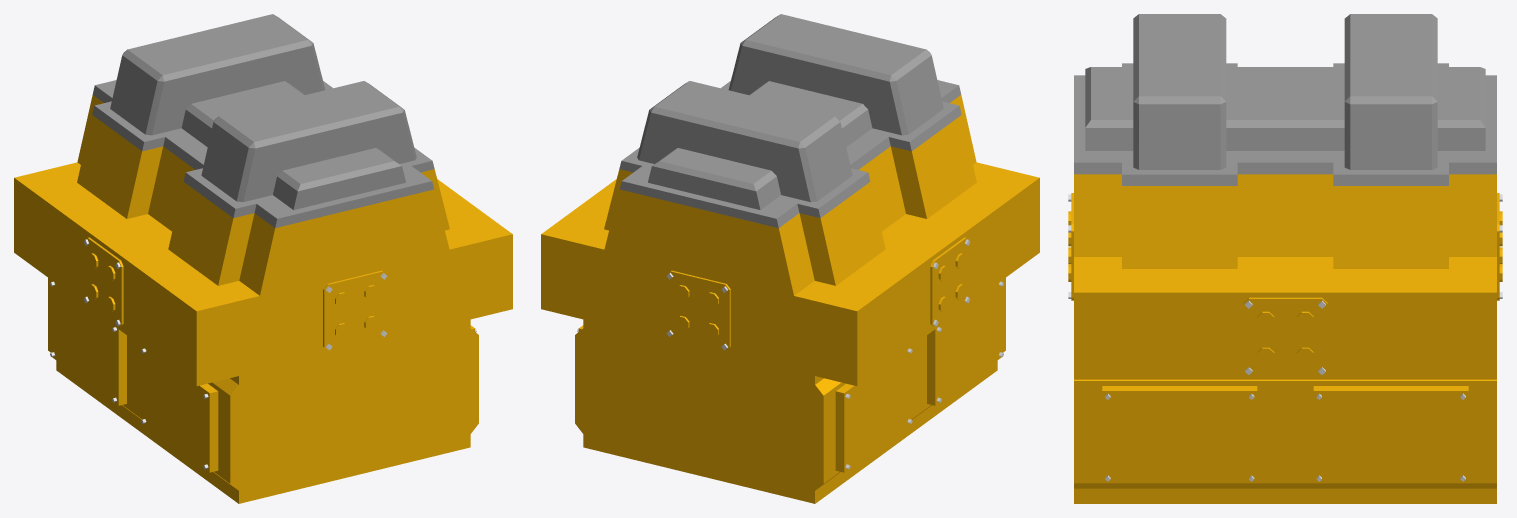
File: modular_engine_cylinder_3x3x3.dae
3 renders of one model, left to right at view 1: azimuth 30°, elevation 25°; view 2: azimuth 150°, elevation 25°; view 3: azimuth 270°, elevation 25°, orthographic. The views are drawn at different scales.
Visible parts, largest first — view 1: Cube.001; view 2: Cube.001; view 3: Cube.001.
Boxes of the visible parts, left/top/right/bottom form: Cube.001: left=14, top=14, right=512, bottom=503; Cube.001: left=541, top=14, right=1039, bottom=503; Cube.001: left=1068, top=14, right=1502, bottom=503.
Bounding box in the file's own units: 0.77 × 0.77 × 0.75.
